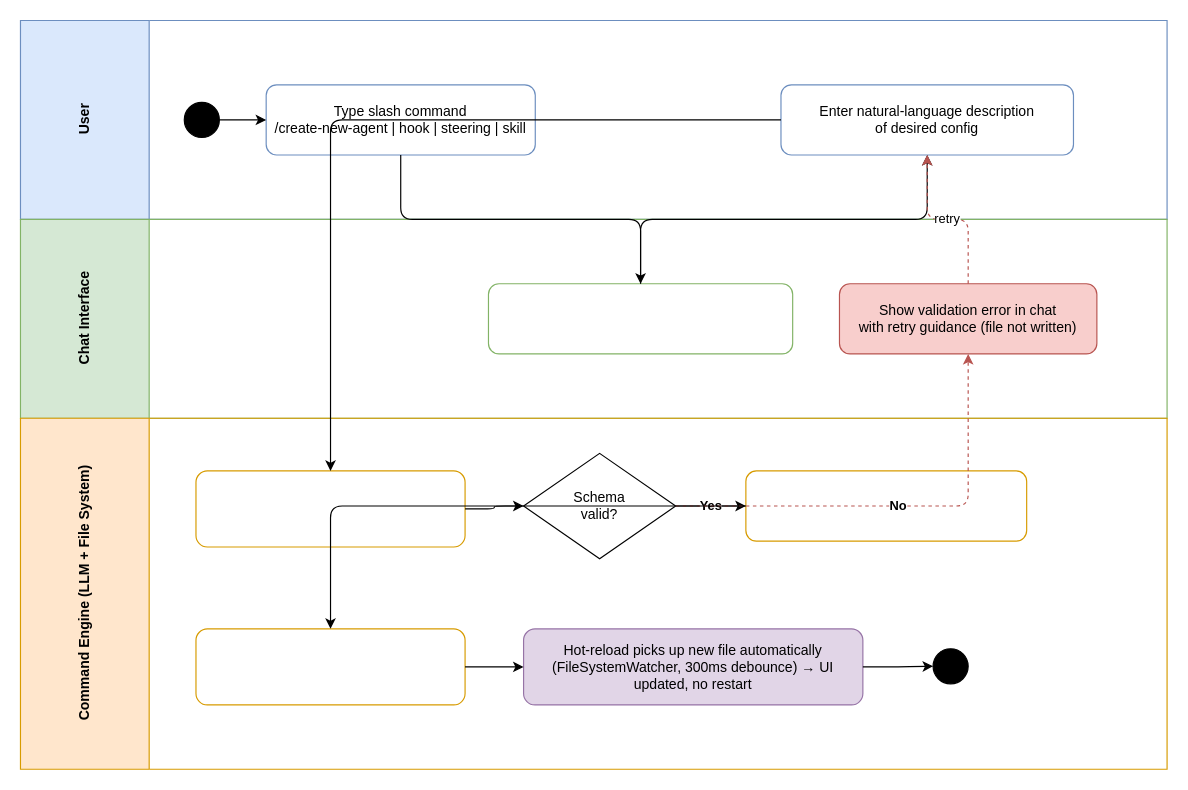
This 1188x790 diagram has some shape labels left out. Each missing label, with the box of its shape:
Chat displays prompt: "Describe the agent/hook/steering/skill you want": (487, 283, 793, 354)
LLM generates complete config file following Section 7 template specs: (195, 470, 465, 547)
Open generated file in dual-tab editor (Form + Text) for review/edit/save: (195, 628, 465, 705)
Write file to .code-intel/{agents|hooks|steering|skills}/: (745, 470, 1027, 541)
